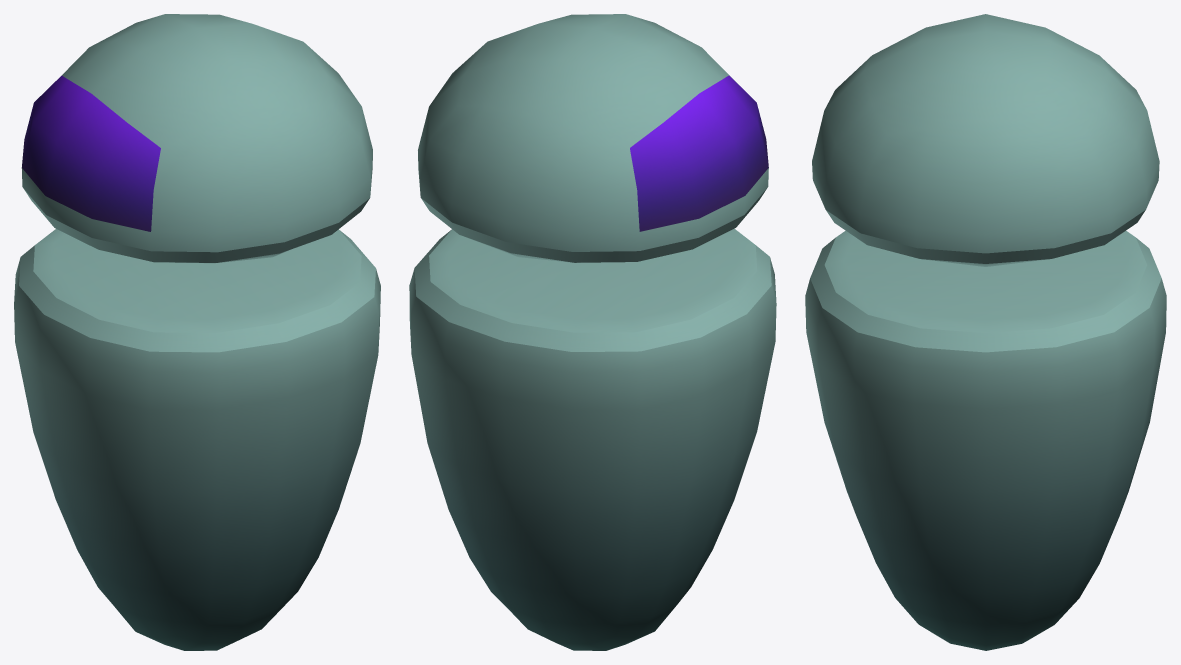
File: robot.fbx
The picture shows the model from 3 angles, left to right: view 1: azimuth 30°, elevation 25°; view 2: azimuth 150°, elevation 25°; view 3: azimuth 270°, elevation 25°; orthographic projection.
Visible parts, largest first — view 1: polySurface11; view 2: polySurface11; view 3: polySurface11.
Boxes of the visible parts, x1=… form: polySurface11: x1=14, y1=14, x2=380, y2=650; polySurface11: x1=409, y1=14, x2=776, y2=650; polySurface11: x1=805, y1=14, x2=1166, y2=650.
Bounding box in the file's own units: 6.28 × 11.67 × 6.28.
Materials: 1 (1 with a texture image).
